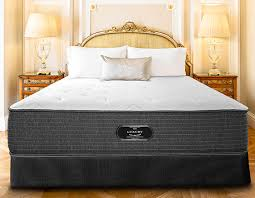bed-matress: (7, 73, 248, 157)
